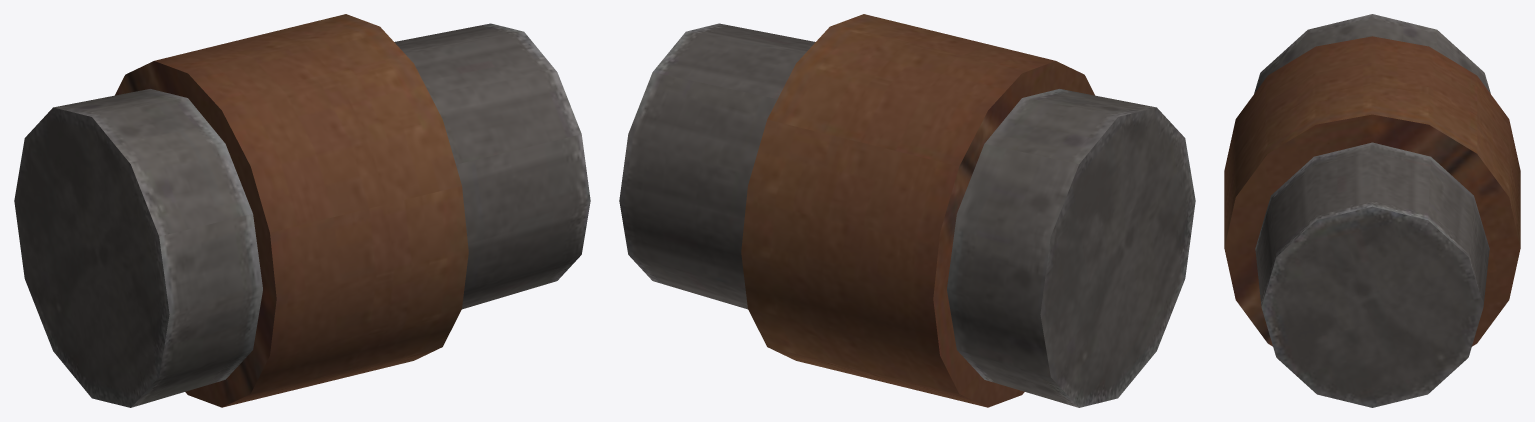
File: tightjaw_choke.glb
3 views of the same model, side by side, from view 1: azimuth 30°, elevation 25°; view 2: azimuth 150°, elevation 25°; view 3: azimuth 270°, elevation 25° (orthographic). The views are drawn at different scales.
Visible parts, largest first — view 1: tightjaw_choke; view 2: tightjaw_choke; view 3: tightjaw_choke.
Boxes of the visible parts, x1,y1,x2,y2 form: tightjaw_choke: [14, 14, 590, 407]; tightjaw_choke: [619, 14, 1195, 407]; tightjaw_choke: [1224, 14, 1520, 407].
Bounding box in the file's own units: 0.045 × 0.032 × 0.032.
Materials: 1 (1 with a texture image).
